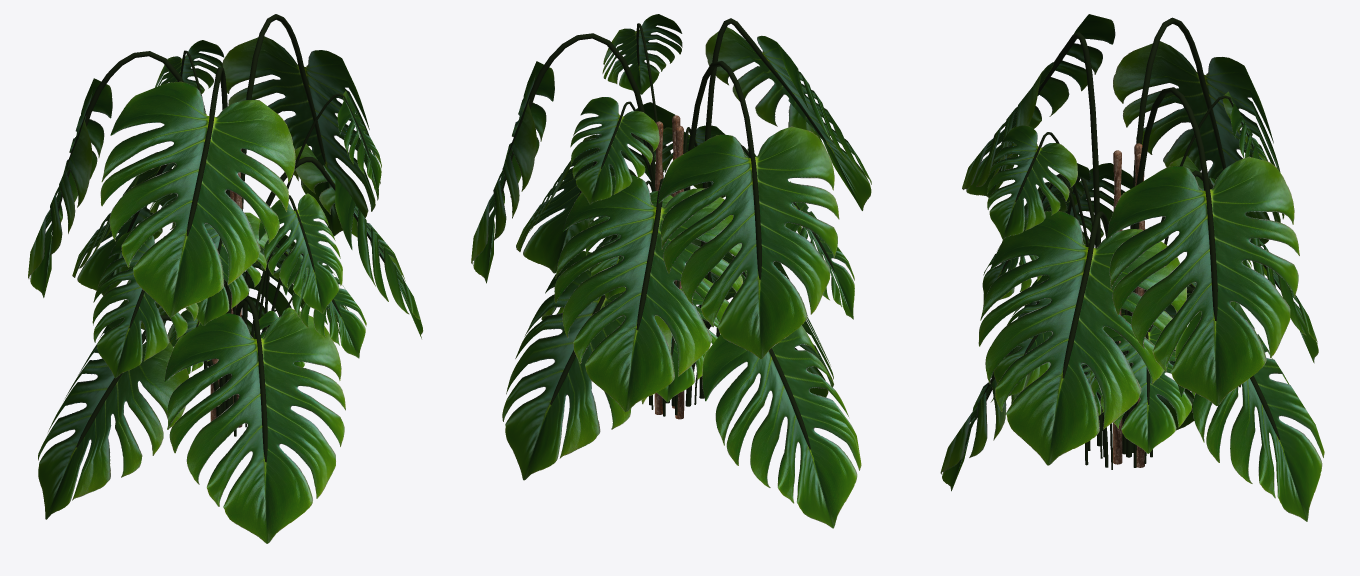
The model's file is Plants_02.fbx.
3 renders of one model, left to right at view 1: azimuth 30°, elevation 25°; view 2: azimuth 150°, elevation 25°; view 3: azimuth 270°, elevation 25°, orthographic. The views are drawn at different scales.
Parts seen in each view (by area): view 1: Monstera; view 2: Monstera; view 3: Monstera.
Part boxes in pixels (bbox=[...]): Monstera: bbox=[28, 14, 423, 543]; Monstera: bbox=[471, 14, 871, 528]; Monstera: bbox=[940, 14, 1324, 521].
Bounding box in the file's own units: 5.1 × 4.59 × 5.91.
